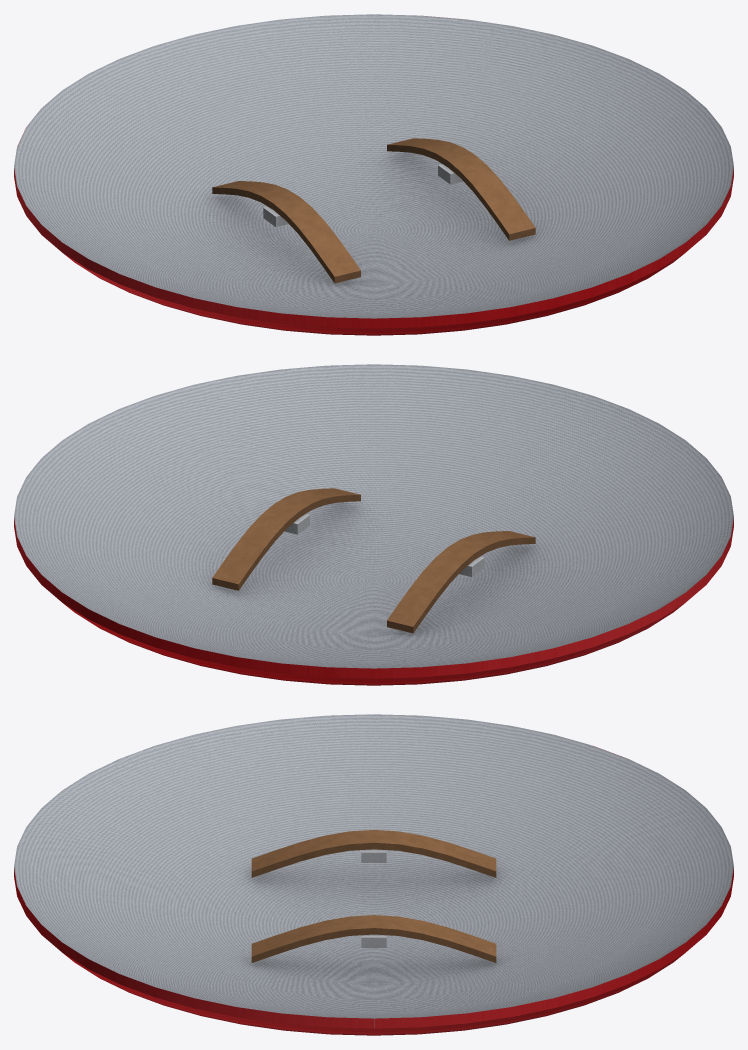
File: Boomerang_62.fbx
3 views of the same model, one above another, from view 1: azimuth 30°, elevation 25°; view 2: azimuth 150°, elevation 25°; view 3: azimuth 270°, elevation 25° (orthographic).
Visible parts, largest first — view 1: Boomerang_62; view 2: Boomerang_62; view 3: Boomerang_62.
Part boxes in pixels (x1,y1,x2,y2): Boomerang_62: (14,14,733,335); Boomerang_62: (14,364,733,685); Boomerang_62: (14,714,733,1035).
Size of the model in its own units: 198 by 28.53 by 198.
Materials: 1 (1 with a texture image).
